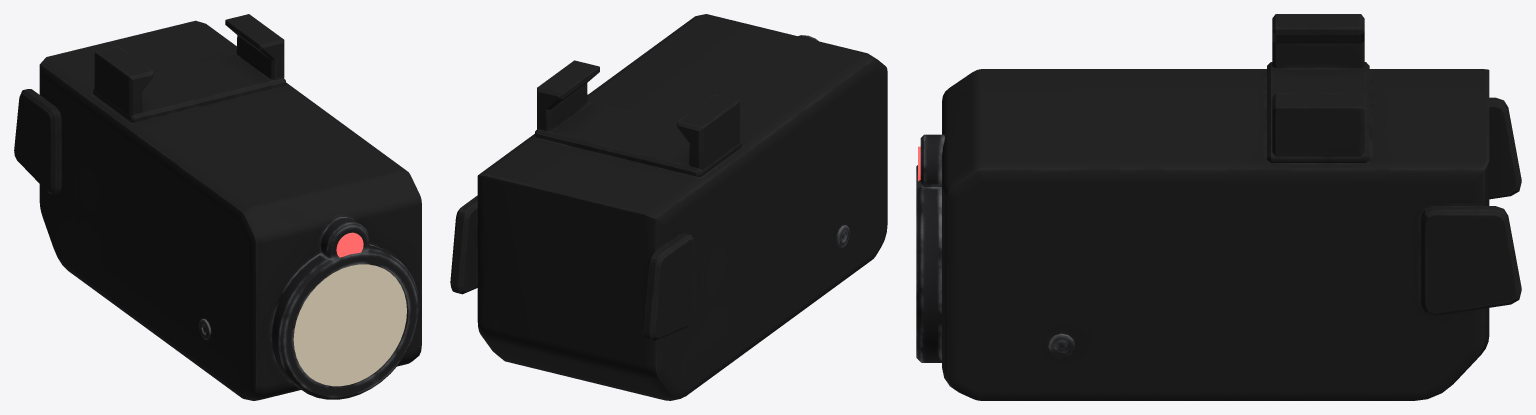
The model's file is Pistol_LaserLight.fbx.
The picture shows the model from 3 angles, left to right: view 1: azimuth 30°, elevation 25°; view 2: azimuth 150°, elevation 25°; view 3: azimuth 270°, elevation 25°; orthographic projection. The views are drawn at different scales.
Parts seen in each view (by area): view 1: Body, Lens, LaserAperture; view 2: Body; view 3: Body.
Part boxes in pixels (<box>): Body: <box>14,14,421,400</box>; Lens: <box>293,264,406,386</box>; LaserAperture: <box>336,232,363,257</box>; Body: <box>450,14,887,400</box>; Body: <box>916,14,1521,400</box>.
Size of the model in its own units: 0.032 by 0.038 by 0.0708.
